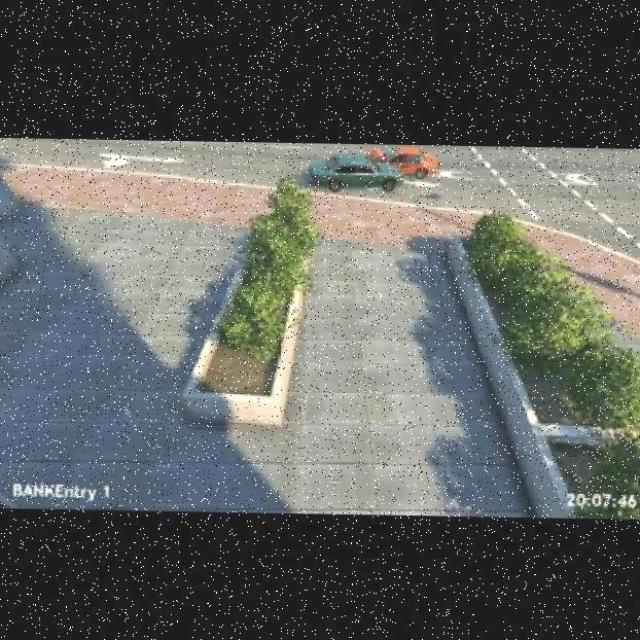accident: (288, 138, 440, 203)
